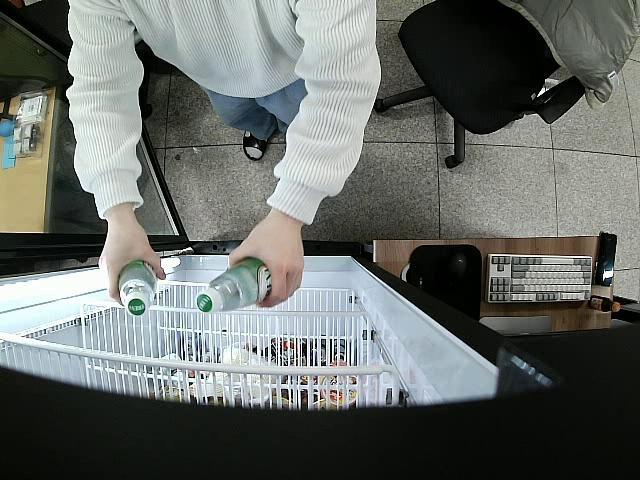18_trevi: (198, 258, 270, 314), (118, 262, 156, 316)
